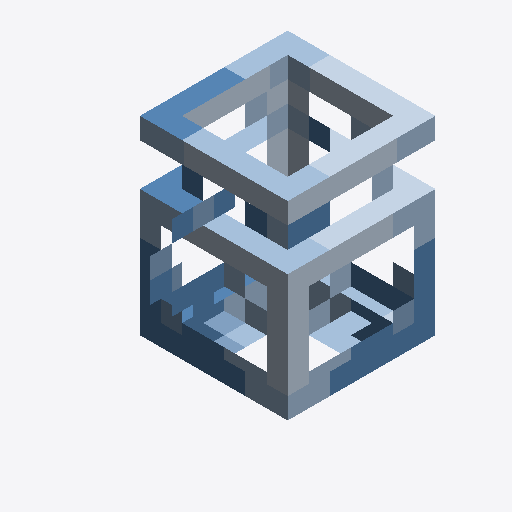
Isometric view (azimuth 45°, elevation 35.3°) of a Minecraft model made of 8 cuboids, textured from the same repository.
Visible parts, largest first — element 1, element 8, element 2, element 5, element 3, element 6, element 7, element 4.
Part boxes in pixels (x1,y1,x2,y2): element 1: (140, 116, 434, 419); element 8: (267, 104, 434, 224); element 2: (182, 79, 392, 249); element 5: (140, 31, 307, 151); element 3: (182, 280, 392, 383); element 6: (161, 116, 286, 212); element 7: (288, 43, 413, 127); element 4: (150, 189, 234, 328).
Size of the model in its own units: 10 by 10 by 7.